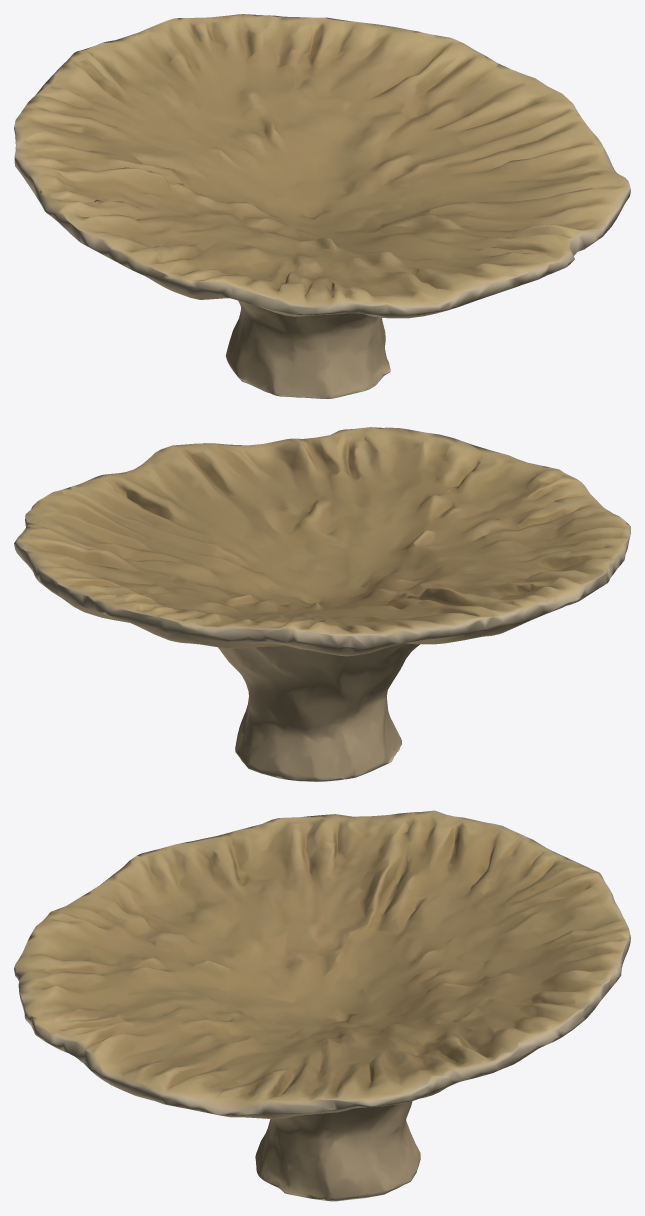
The model's file is table.glb.
3 renders of one model, top to bottom at view 1: azimuth 30°, elevation 25°; view 2: azimuth 150°, elevation 25°; view 3: azimuth 270°, elevation 25°, orthographic.
Parts seen in each view (by area): view 1: tripo_node_73505a65-9889-4433-9d64-fe976d25be83; view 2: tripo_node_73505a65-9889-4433-9d64-fe976d25be83; view 3: tripo_node_73505a65-9889-4433-9d64-fe976d25be83.
Part boxes in pixels (x1,y1,x2,y2): tripo_node_73505a65-9889-4433-9d64-fe976d25be83: (14, 14, 630, 398); tripo_node_73505a65-9889-4433-9d64-fe976d25be83: (14, 427, 630, 781); tripo_node_73505a65-9889-4433-9d64-fe976d25be83: (14, 810, 630, 1201).
Size of the model in its own units: 0.9978 by 0.4385 by 1.
1 material, 1 textured.
